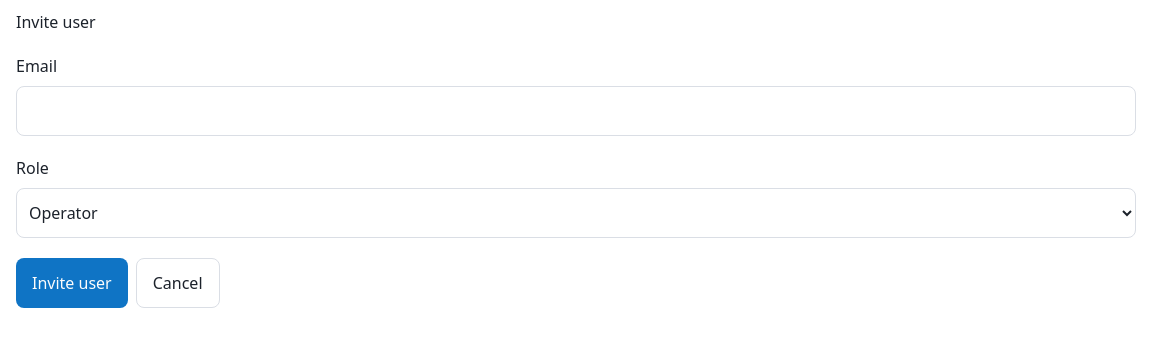
Test case: InviteUserForm › shows a validation error and does not submit an empty email
The image size is (1152, 357).
Step 1. Click the button "Invite user" → (72, 283), box [16,258,128,308]
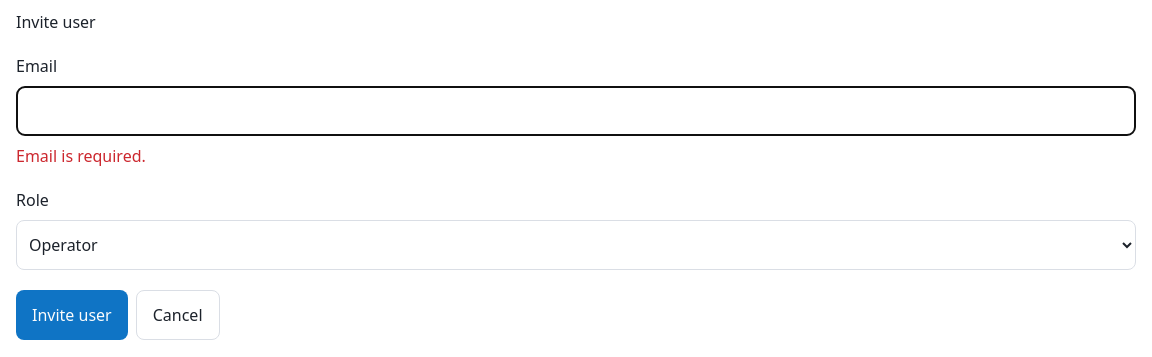
Expected: the text "Email is required." is shown, [16,145,146,167]
